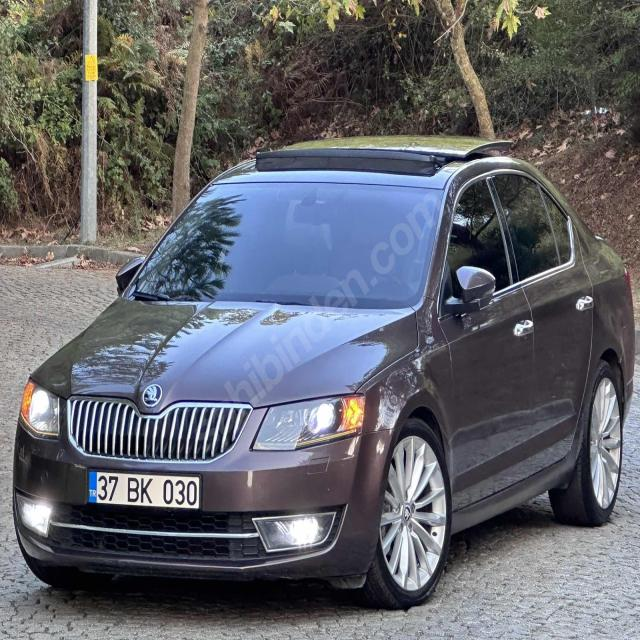skoda: (140, 382, 163, 406)
